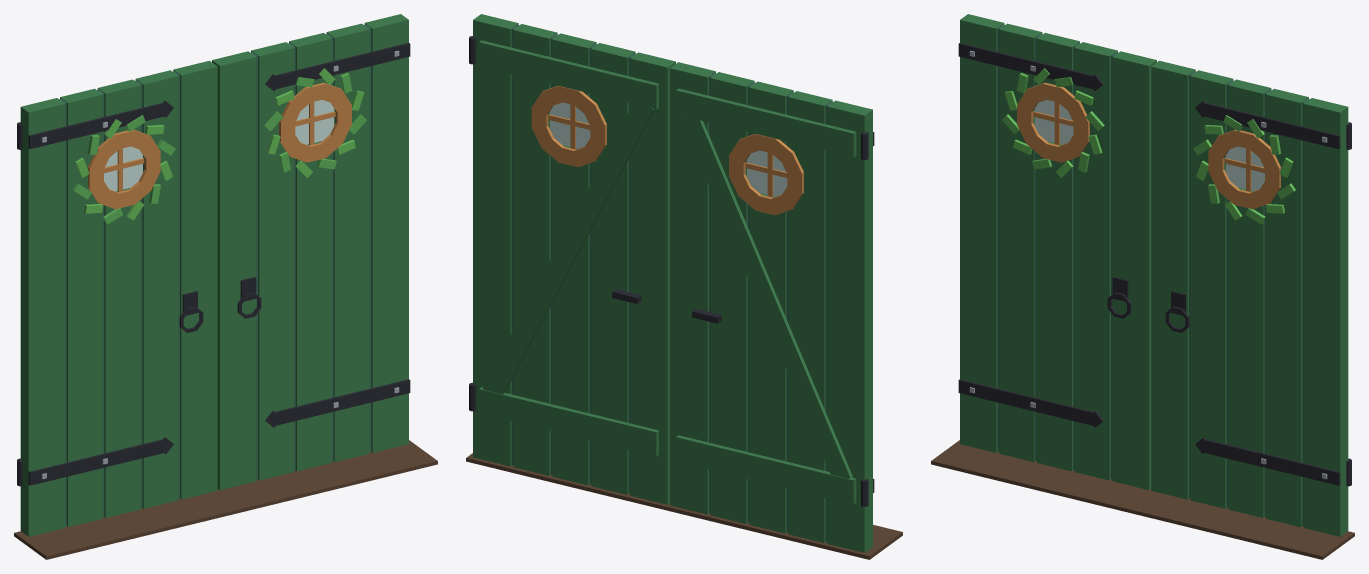
File: CatCafe_Door_GardenGate_Front.glb
3 renders of one model, left to right at view 1: azimuth 30°, elevation 25°; view 2: azimuth 150°, elevation 25°; view 3: azimuth 330°, elevation 25°, orthographic. The views are drawn at different scales.
Visible parts, largest first — view 1: CatCafe_Door_GardenGate_Front_LeafR, CatCafe_Door_GardenGate_Front_LeafL, CatCafe_Door_GardenGate_Front, CatCafe_Door_GardenGate_Front_LeafL_Glass, CatCafe_Door_GardenGate_Front_LeafR_Glass; view 2: CatCafe_Door_GardenGate_Front_LeafR, CatCafe_Door_GardenGate_Front_LeafL, CatCafe_Door_GardenGate_Front, CatCafe_Door_GardenGate_Front_LeafR_Glass, CatCafe_Door_GardenGate_Front_LeafL_Glass; view 3: CatCafe_Door_GardenGate_Front_LeafL, CatCafe_Door_GardenGate_Front_LeafR, CatCafe_Door_GardenGate_Front, CatCafe_Door_GardenGate_Front_LeafR_Glass, CatCafe_Door_GardenGate_Front_LeafL_Glass.
Part boxes in pixels (x1,y1,x2,y2): CatCafe_Door_GardenGate_Front_LeafR: (17,60,217,536); CatCafe_Door_GardenGate_Front_LeafL: (212,14,410,489); CatCafe_Door_GardenGate_Front: (14,440,437,559); CatCafe_Door_GardenGate_Front_LeafL_Glass: (295,100,334,144); CatCafe_Door_GardenGate_Front_LeafR_Glass: (104,146,142,191); CatCafe_Door_GardenGate_Front_LeafR: (670,62,874,552); CatCafe_Door_GardenGate_Front_LeafL: (469,14,675,504); CatCafe_Door_GardenGate_Front: (466,453,902,559); CatCafe_Door_GardenGate_Front_LeafR_Glass: (747,150,787,196); CatCafe_Door_GardenGate_Front_LeafL_Glass: (550,102,590,148); CatCafe_Door_GardenGate_Front_LeafL: (1151,60,1351,536); CatCafe_Door_GardenGate_Front_LeafR: (958,14,1156,489); CatCafe_Door_GardenGate_Front: (931,440,1354,559); CatCafe_Door_GardenGate_Front_LeafR_Glass: (1034,100,1073,144); CatCafe_Door_GardenGate_Front_LeafL_Glass: (1226,146,1264,191).
Bounding box in the file's own units: 7 × 7.33 × 1.09.
1 material, 1 textured.
